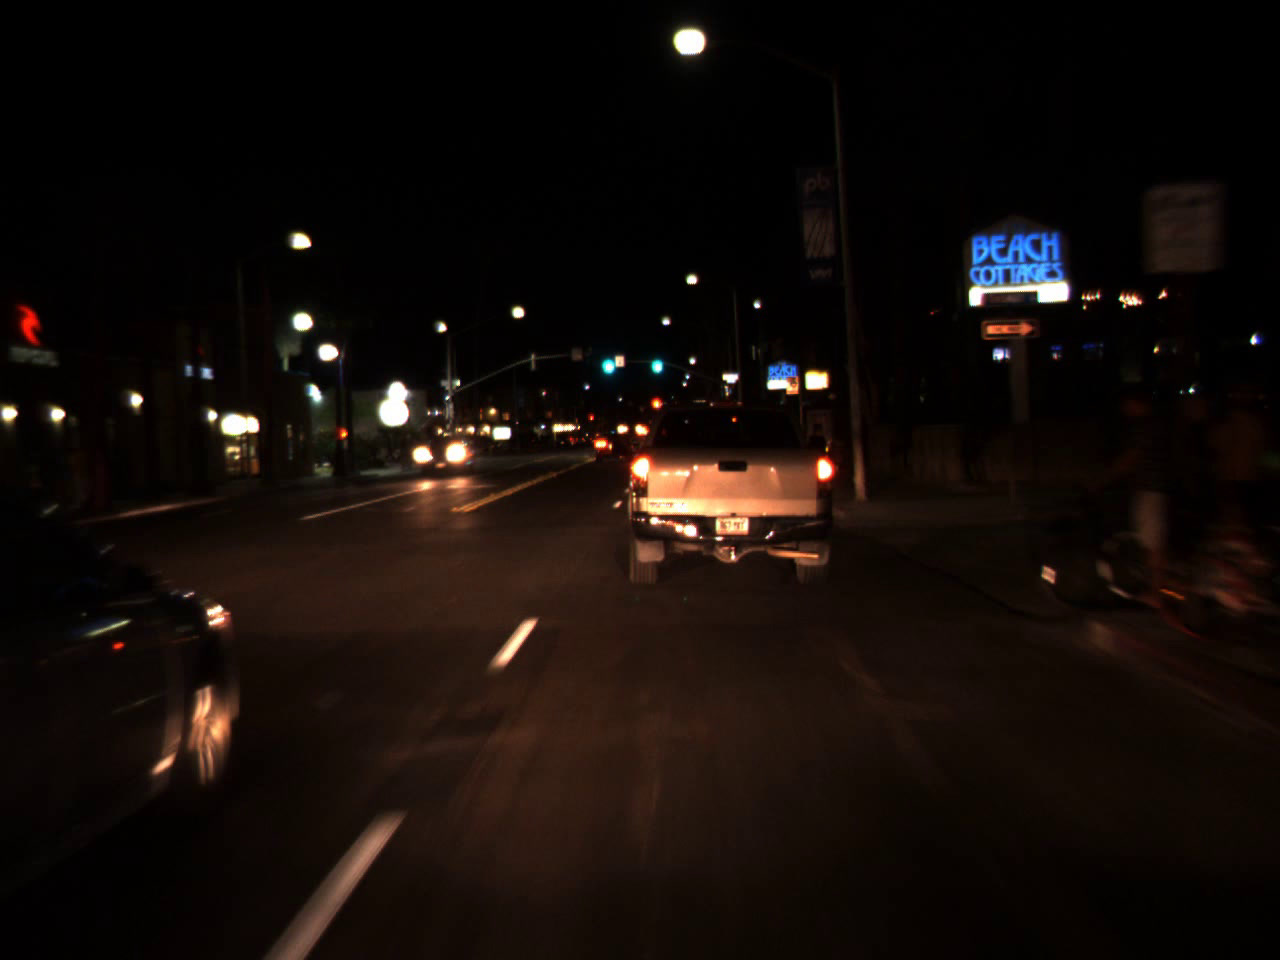go: (596, 340, 619, 379), (647, 344, 665, 377)
